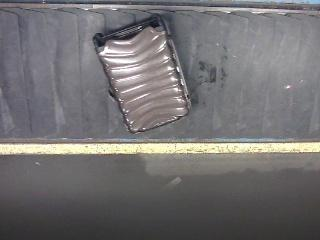Suitcase: (91, 18, 200, 140)
